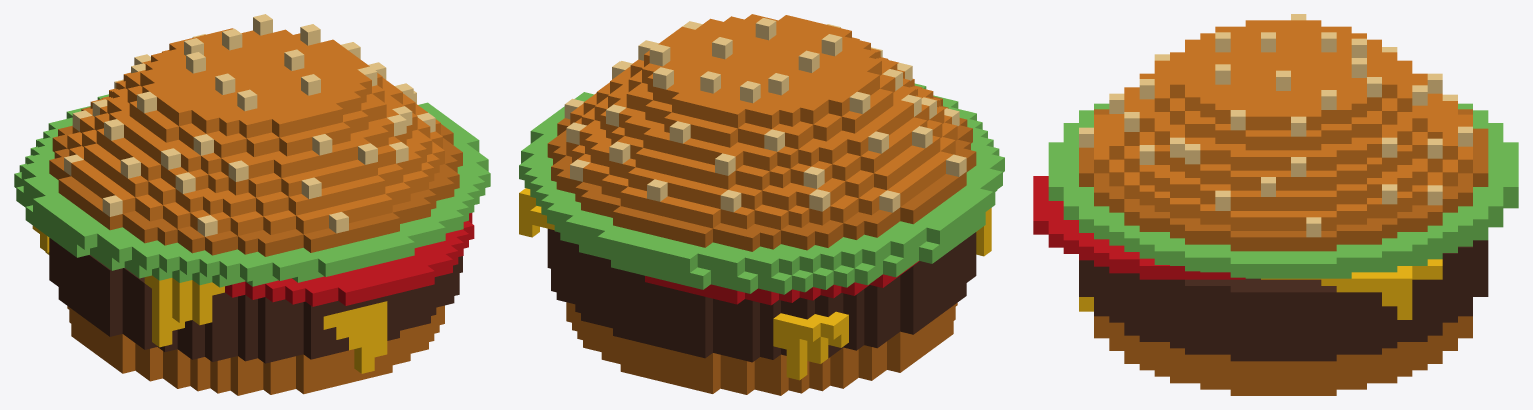
File: Hamburger.obj
3 renders of one model, left to right at view 1: azimuth 30°, elevation 25°; view 2: azimuth 150°, elevation 25°; view 3: azimuth 270°, elevation 25°, orthographic. The views are drawn at different scales.
Visible parts, largest first — view 1: Hamburger; view 2: Hamburger; view 3: Hamburger.
Boxes of the visible parts, box(x1,y1,x2,y2) form: Hamburger: box(14, 14, 490, 395); Hamburger: box(519, 14, 1004, 395); Hamburger: box(1033, 14, 1518, 395).
Size of the model in its own units: 31 by 19 by 32.
1 material, 1 textured.
